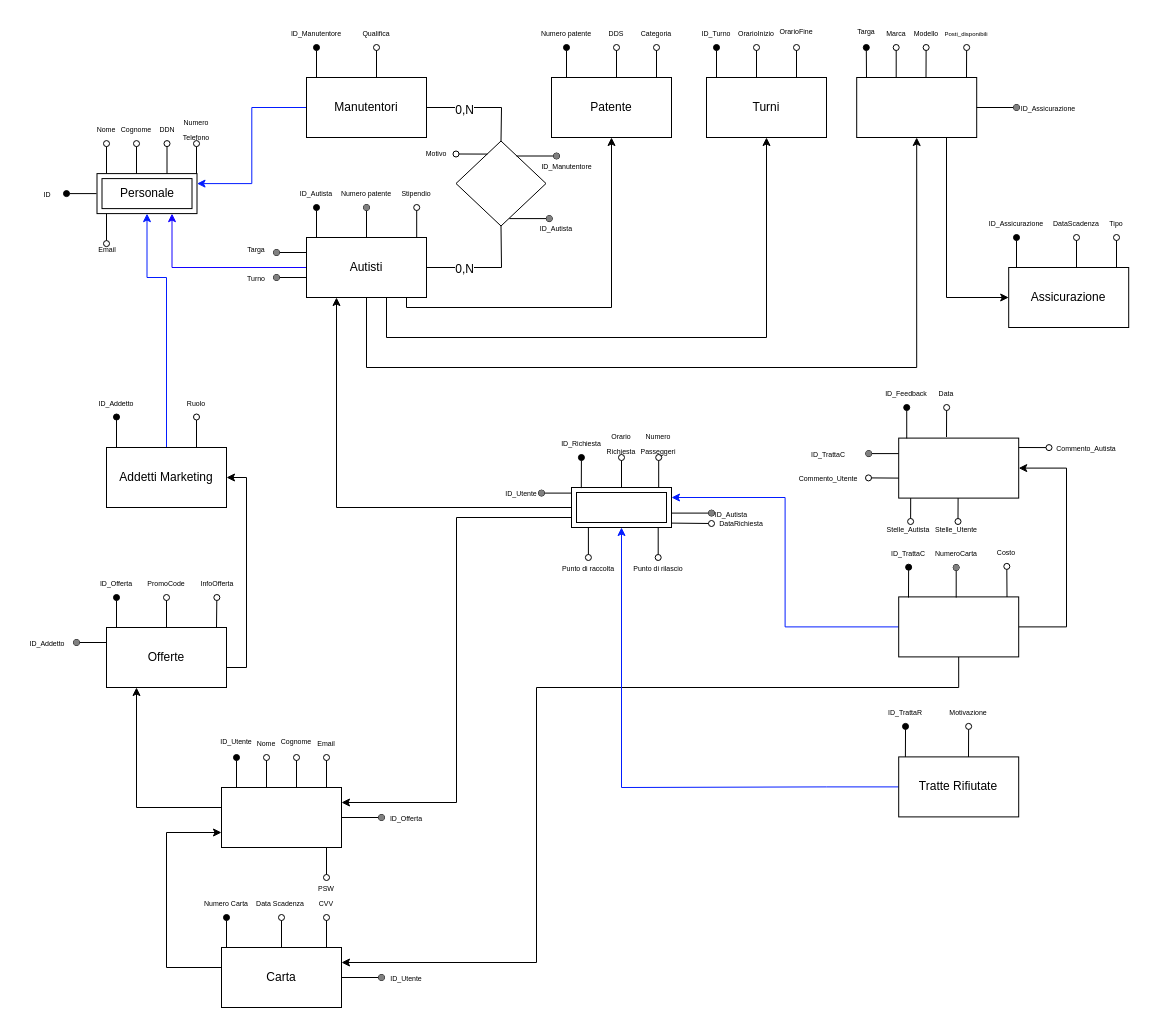
This 1164x1025 diagram has some shape labels left out. The shapes that lost their labels are listed below. From the top down, each one's box as (x1, y1, x2, y2) in pixels, then its label:
(856, 76, 977, 138): Veicoli
(455, 140, 546, 226): Contatta per Guasto
(898, 437, 1019, 498): Feedback
(570, 486, 672, 528): Richiesta Prenotazione
(898, 596, 1019, 657): Tratte Complete
(220, 786, 342, 848): Utenti
